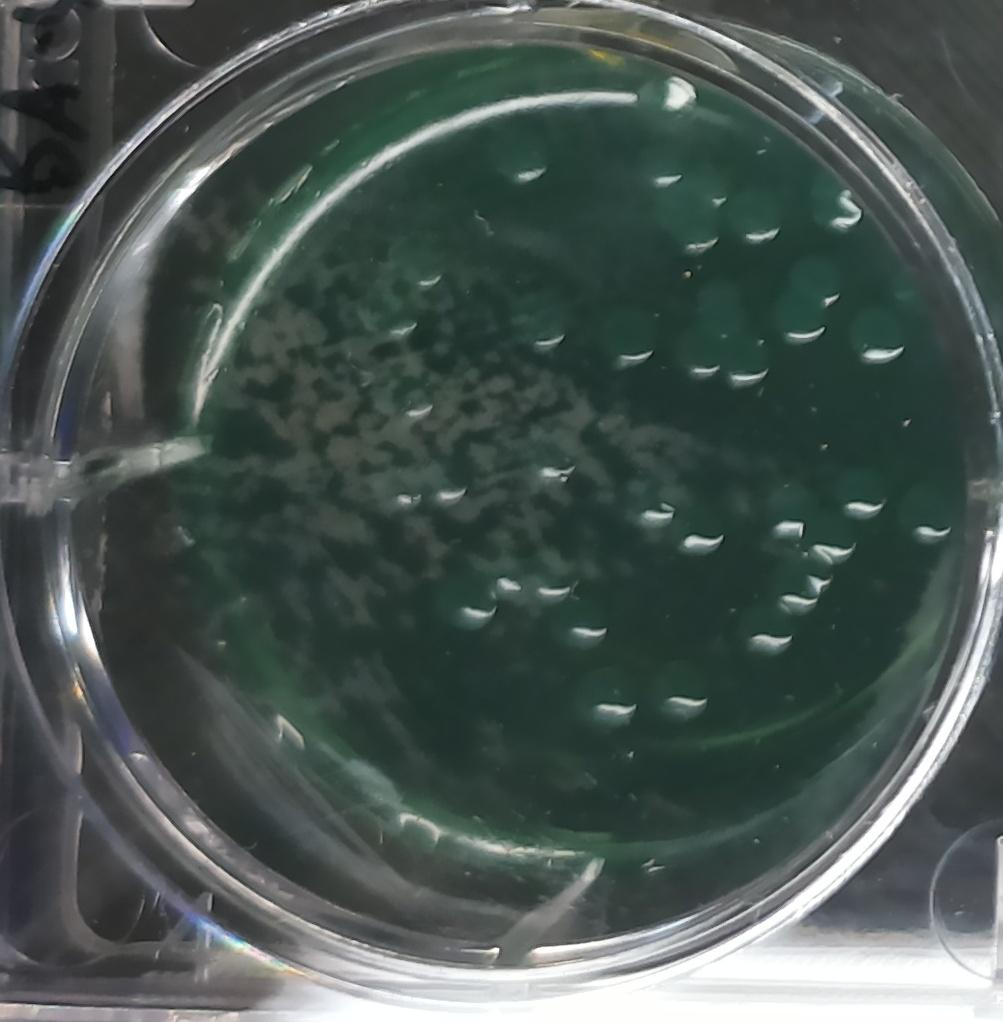vproteolyticus: (670, 280, 776, 393), (771, 251, 841, 347), (578, 663, 646, 735), (486, 118, 557, 186), (897, 476, 965, 546), (649, 653, 716, 723), (593, 300, 662, 367), (660, 190, 723, 259), (617, 475, 682, 541), (509, 290, 575, 355), (846, 304, 912, 368), (437, 570, 501, 635), (731, 597, 797, 658), (826, 463, 890, 525), (669, 497, 727, 561), (728, 185, 785, 246), (764, 478, 821, 539), (633, 134, 690, 190), (554, 597, 611, 653), (769, 563, 822, 615), (406, 241, 453, 291), (397, 381, 437, 425)
